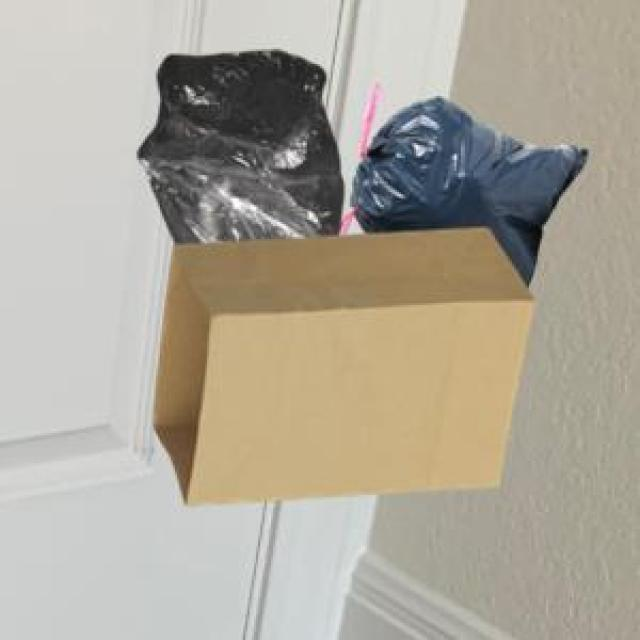miscellaneous trash: (341, 79, 582, 282)
paper: (149, 224, 529, 501)
